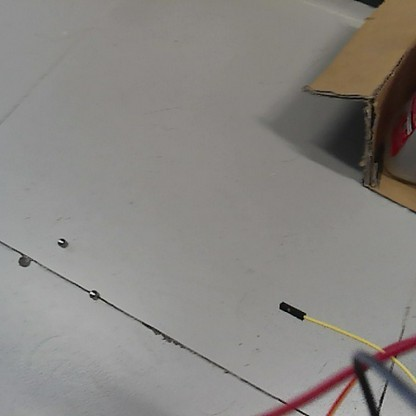ironball: (86, 287, 98, 301), (56, 234, 68, 248)
